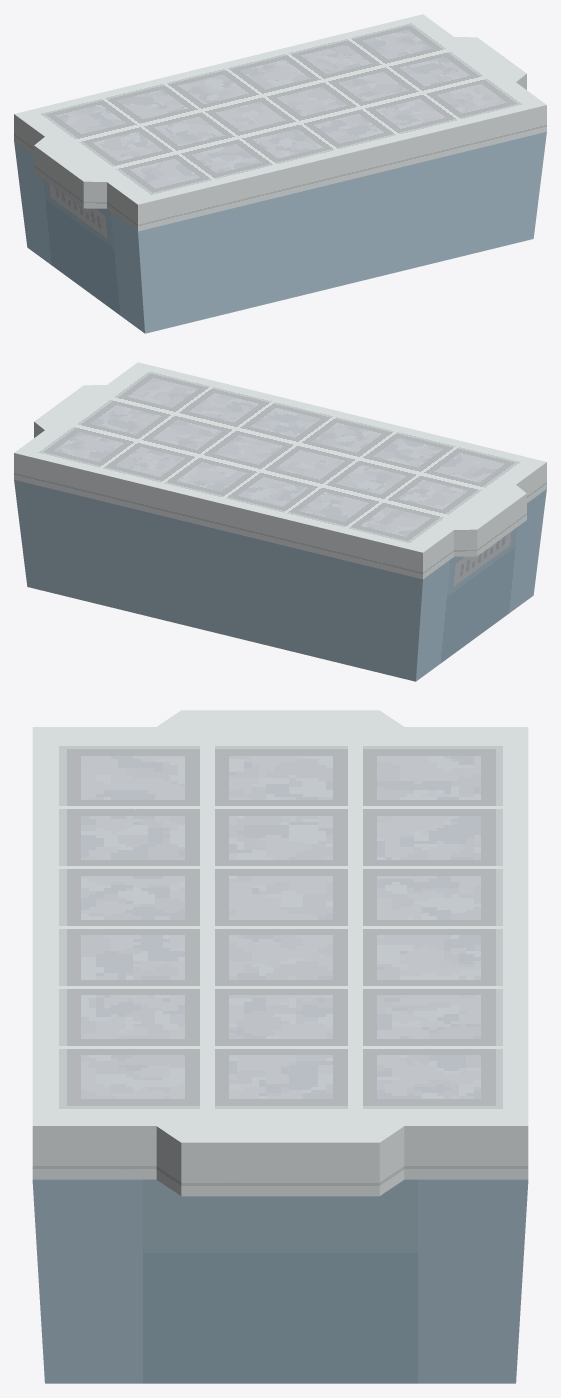
Rendered from 0480_Ice_Cube_Tray.glb.
3 renders of one model, top to bottom at view 1: azimuth 30°, elevation 25°; view 2: azimuth 150°, elevation 25°; view 3: azimuth 270°, elevation 25°, orthographic. The views are drawn at different scales.
Parts seen in each view (by area): view 1: part_0; view 2: part_0; view 3: part_0.
Part boxes in pixels (x1,y1,x2,y2): part_0: [14, 14, 546, 333]; part_0: [14, 362, 546, 681]; part_0: [32, 710, 528, 1383].
Size of the model in its own units: 0.26 by 0.075 by 0.126.
Materials: 1 (1 with a texture image).
